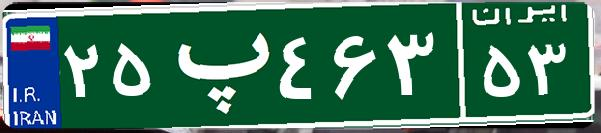2: (57, 26, 110, 107)
3: (385, 28, 445, 110), (525, 38, 570, 115)
4: (273, 28, 330, 110)
5: (475, 38, 525, 113), (110, 28, 158, 105)
6: (330, 28, 385, 110)
پ: (158, 15, 273, 115)
